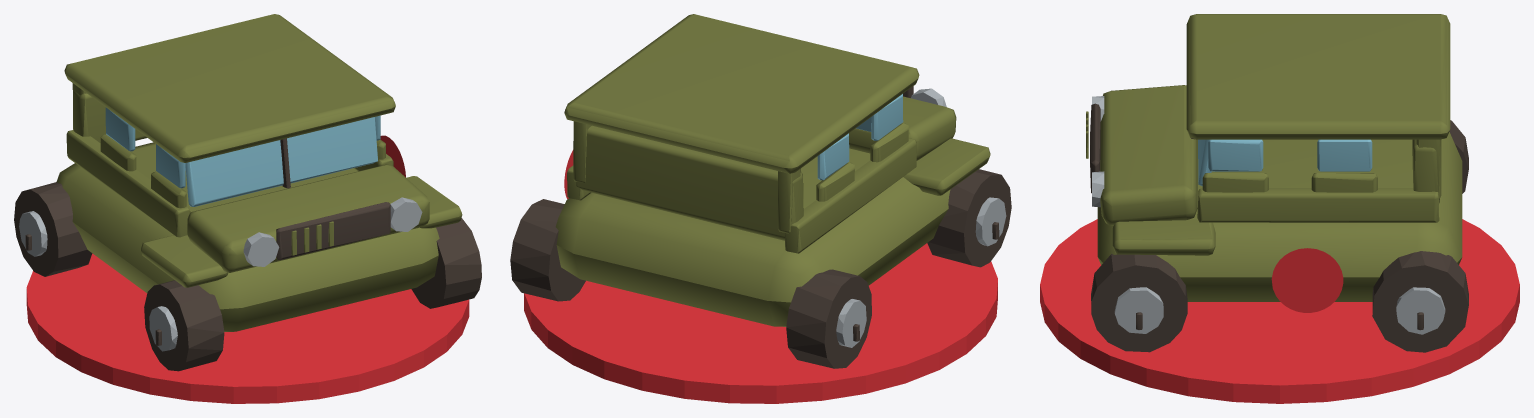
The model's file is japan_militia_lod0.glb.
3 views of the same model, side by side, from view 1: azimuth 30°, elevation 25°; view 2: azimuth 150°, elevation 25°; view 3: azimuth 270°, elevation 25° (orthographic). The views are drawn at different scales.
Visible parts, largest first — view 1: body_hull, base_pedestal; view 2: body_hull, base_pedestal; view 3: body_hull, base_pedestal.
Boxes of the visible parts, bbox=[...] form: body_hull: bbox=[14, 14, 481, 371]; base_pedestal: bbox=[26, 253, 469, 403]; body_hull: bbox=[510, 14, 1011, 368]; base_pedestal: bbox=[524, 243, 997, 403]; body_hull: bbox=[1086, 14, 1468, 352]; base_pedestal: bbox=[1040, 219, 1519, 403].
Size of the model in its own units: 0.78 by 0.4221 by 0.78.
